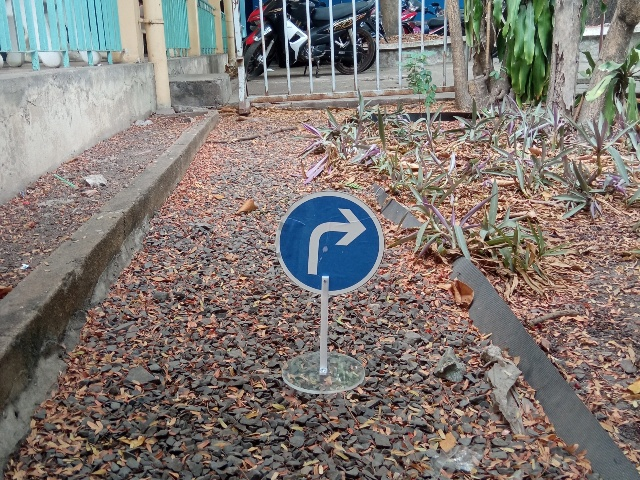Right_Sign: (276, 193, 384, 293)
